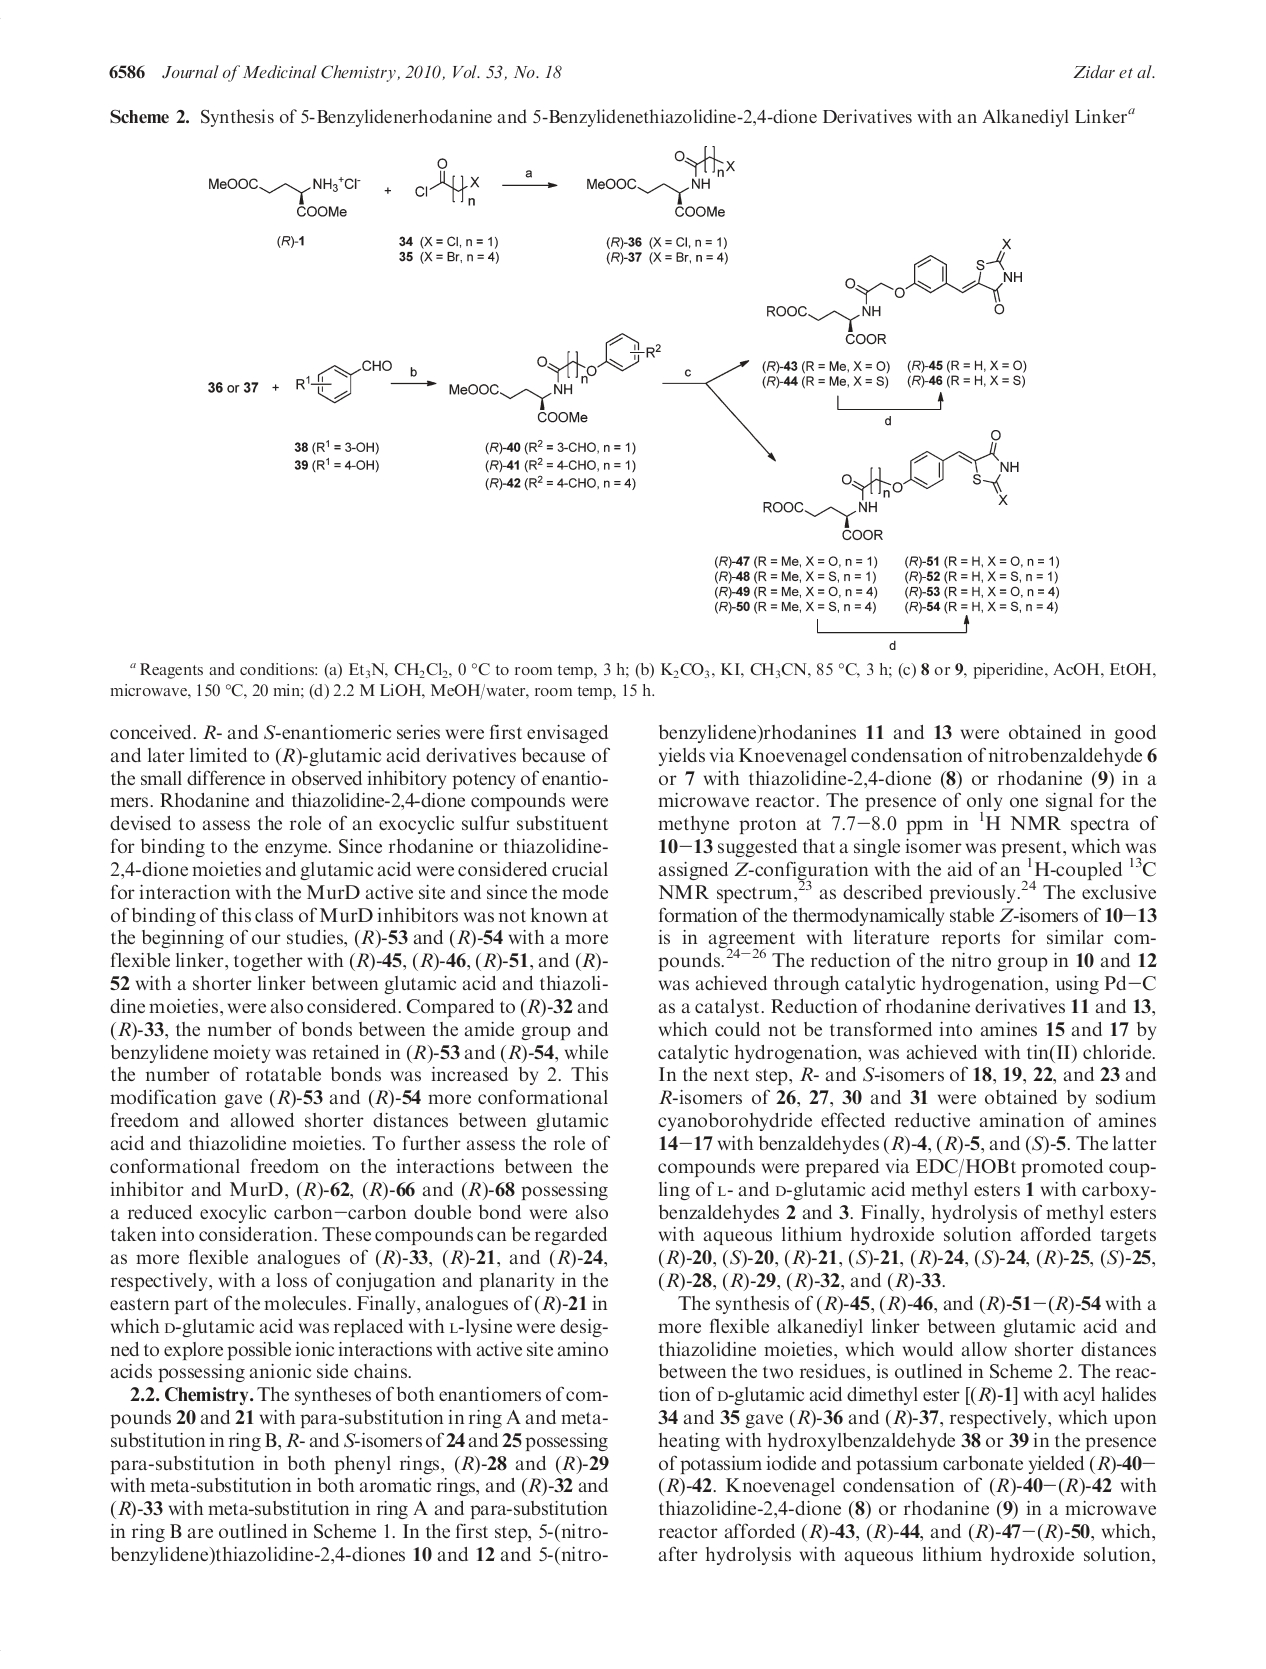exist_molecular: (761, 428, 1025, 543), (765, 234, 1027, 348), (445, 330, 660, 426), (586, 142, 738, 219), (205, 174, 364, 218), (295, 351, 395, 406), (412, 157, 480, 207)
